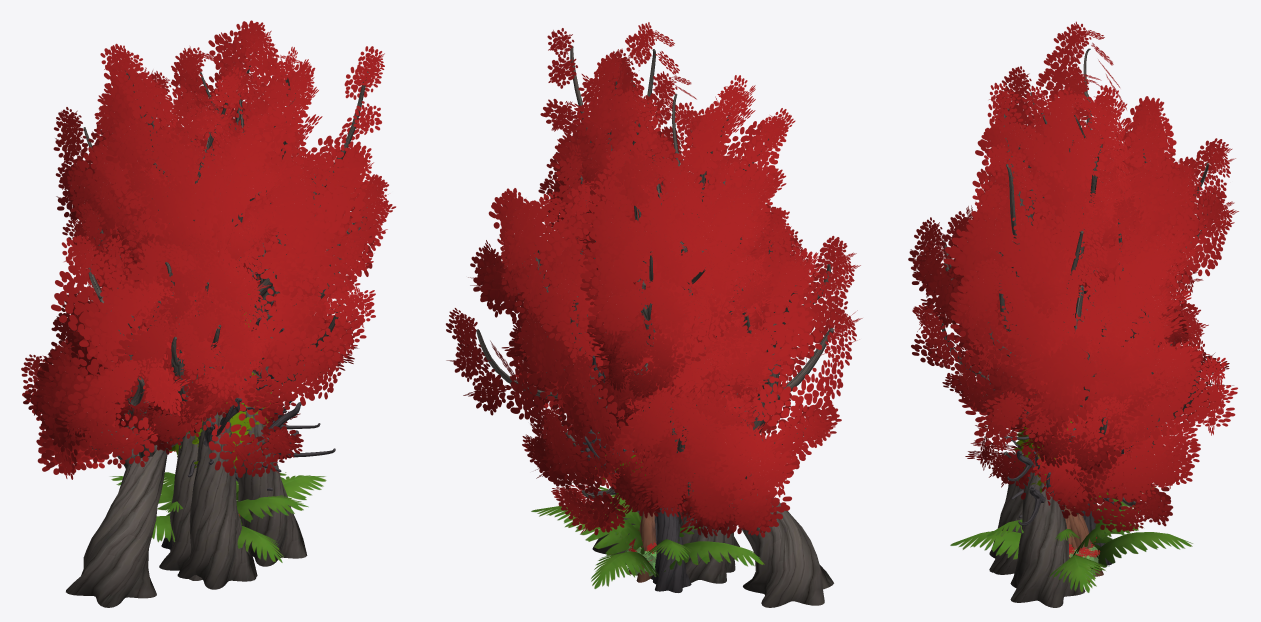
Rendered from nature.glb.
3 renders of one model, left to right at view 1: azimuth 30°, elevation 25°; view 2: azimuth 150°, elevation 25°; view 3: azimuth 270°, elevation 25°, orthographic.
Visible parts, largest first — view 1: twisted_4, twisted_2, twisted_3, twisted_1, twisted_5, fern, dead_1, dead_2; view 2: twisted_4, twisted_3, twisted_1, twisted_2, twisted_5, fern, dead_1, tree_3; view 3: twisted_4, twisted_3, twisted_2, twisted_1, twisted_5, fern, dead_1, tree_3, dead_2.
Boxes of the visible parts, left/top/right/bottom form: twisted_4: left=23, top=82, right=384, bottom=607; twisted_2: left=53, top=20, right=385, bottom=577; twisted_3: left=62, top=43, right=384, bottom=566; twisted_1: left=21, top=96, right=395, bottom=580; twisted_5: left=88, top=115, right=364, bottom=589; fern: left=110, top=472, right=326, bottom=562; dead_1: left=161, top=272, right=335, bottom=551; dead_2: left=208, top=301, right=320, bottom=472; twisted_4: left=446, top=119, right=862, bottom=607; twisted_3: left=500, top=22, right=791, bottom=564; twisted_1: left=522, top=128, right=860, bottom=583; twisted_2: left=552, top=48, right=811, bottom=572; twisted_5: left=553, top=126, right=795, bottom=572; fern: left=531, top=487, right=764, bottom=588; dead_1: left=580, top=307, right=755, bottom=592; tree_3: left=596, top=431, right=656, bottom=582; twisted_4: left=911, top=123, right=1237, bottom=501; twisted_3: left=945, top=21, right=1203, bottom=607; twisted_2: left=911, top=66, right=1235, bottom=574; twisted_1: left=908, top=144, right=1238, bottom=531; twisted_5: left=940, top=156, right=1203, bottom=572; fern: left=950, top=487, right=1192, bottom=592; dead_1: left=988, top=285, right=1166, bottom=565; tree_3: left=1018, top=458, right=1113, bottom=582; dead_2: left=989, top=345, right=1158, bottom=499.
Bounding box in the file's own units: 13.52 × 18.95 × 11.55.
Materials: 8 (8 with a texture image).
